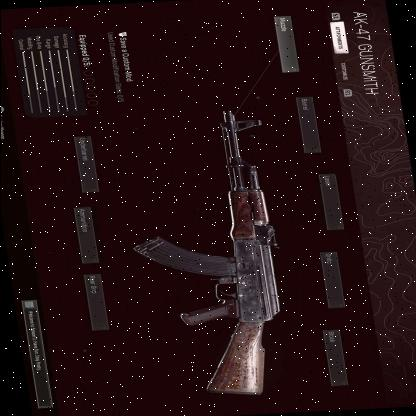rifle: (113, 113, 319, 402)
